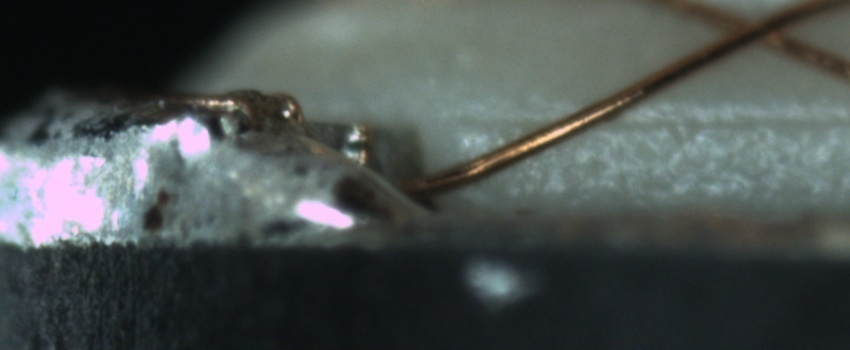CL: (716, 1, 809, 58)
DL: (460, 94, 849, 157)
TE: (140, 86, 305, 136)
